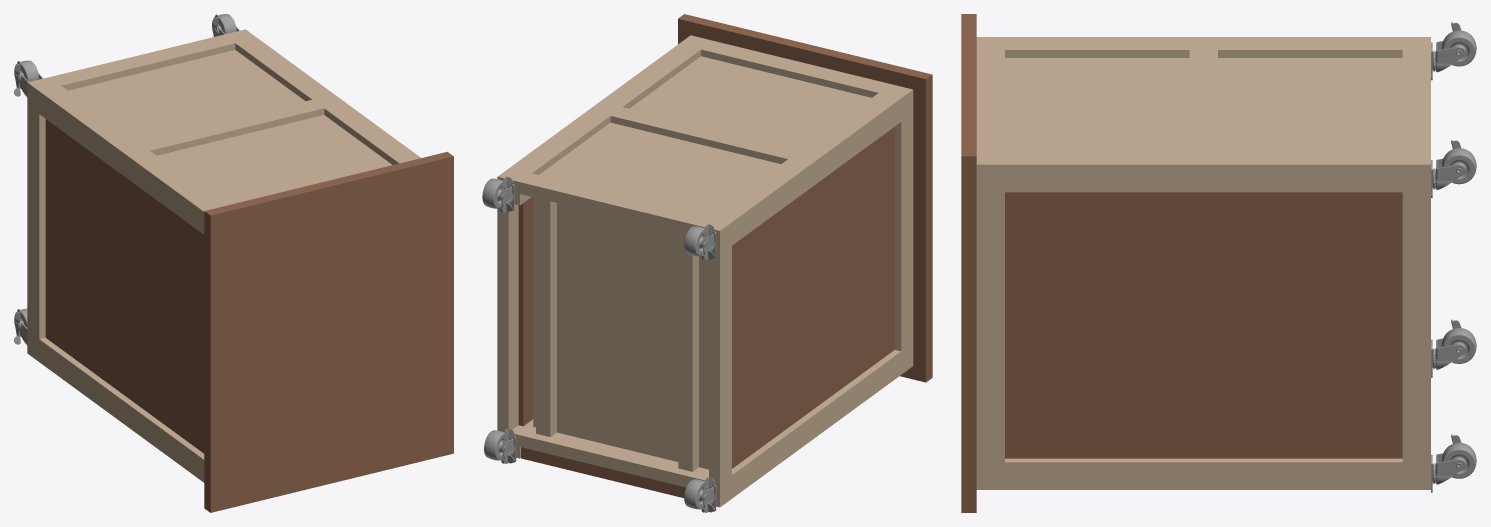
The model's file is file-cabinet.fbx.
The picture shows the model from 3 angles, left to right: view 1: azimuth 30°, elevation 25°; view 2: azimuth 150°, elevation 25°; view 3: azimuth 270°, elevation 25°; orthographic projection. The views are drawn at different scales.
Visible parts, largest first — view 1: Body1 (×10); view 2: Body1 (×22), Body24 (×4); view 3: Body1 (×12), Body24 (×4).
Boxes of the visible parts, bbox=[...] form: Body1 (×10): bbox=[27, 29, 453, 512]; Body1 (×22): bbox=[497, 14, 932, 507]; Body24 (×4): bbox=[482, 178, 709, 509]; Body1 (×12): bbox=[961, 14, 1430, 512]; Body24 (×4): bbox=[1442, 30, 1476, 478].
Bounding box in the file's own units: 19.38 × 22.63 × 29.63.
